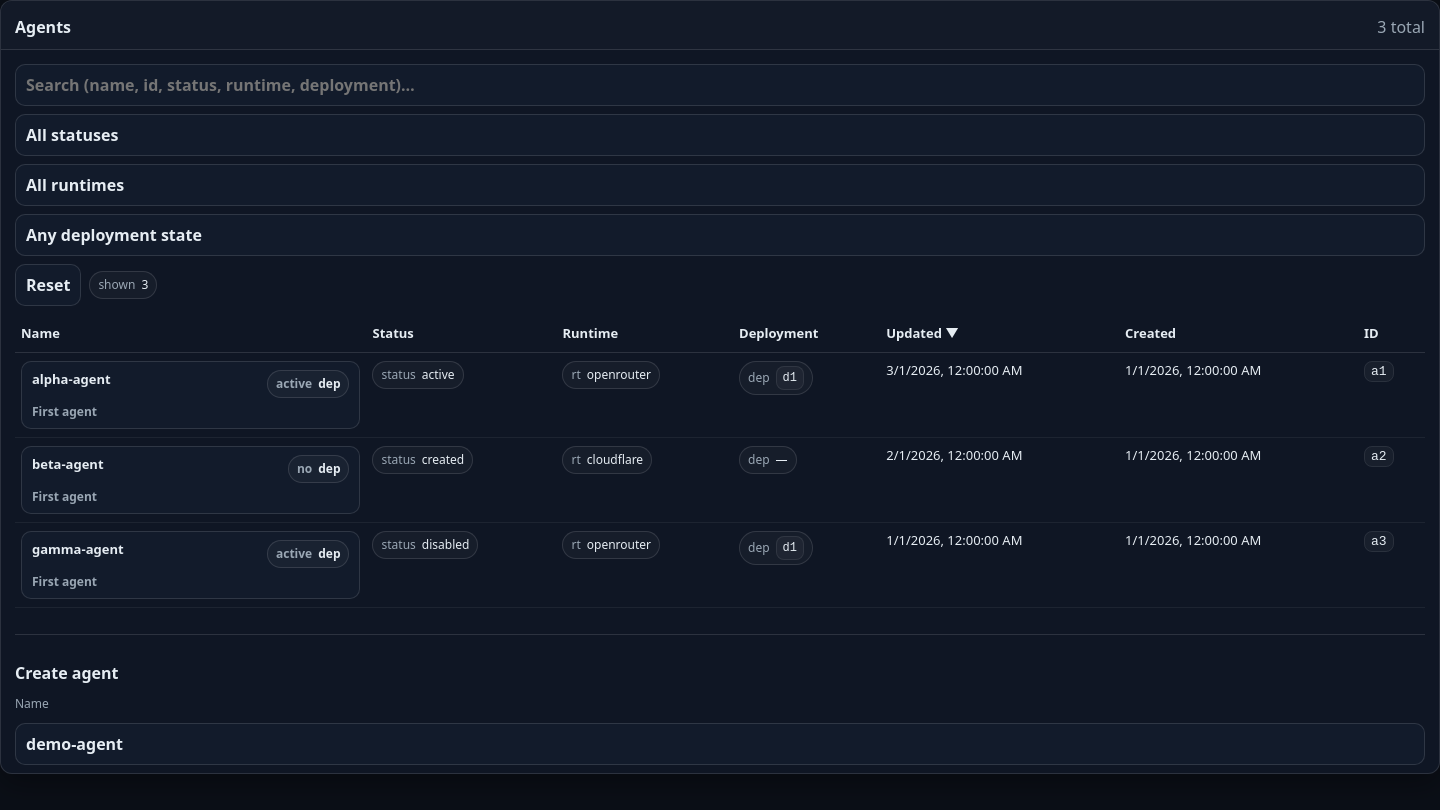
it: AgentsListPanel › filters by status
Select "disabled" in the dropdown named "Filter by status" at (720, 135), box top-left (15, 114), bottom-right (1425, 156)
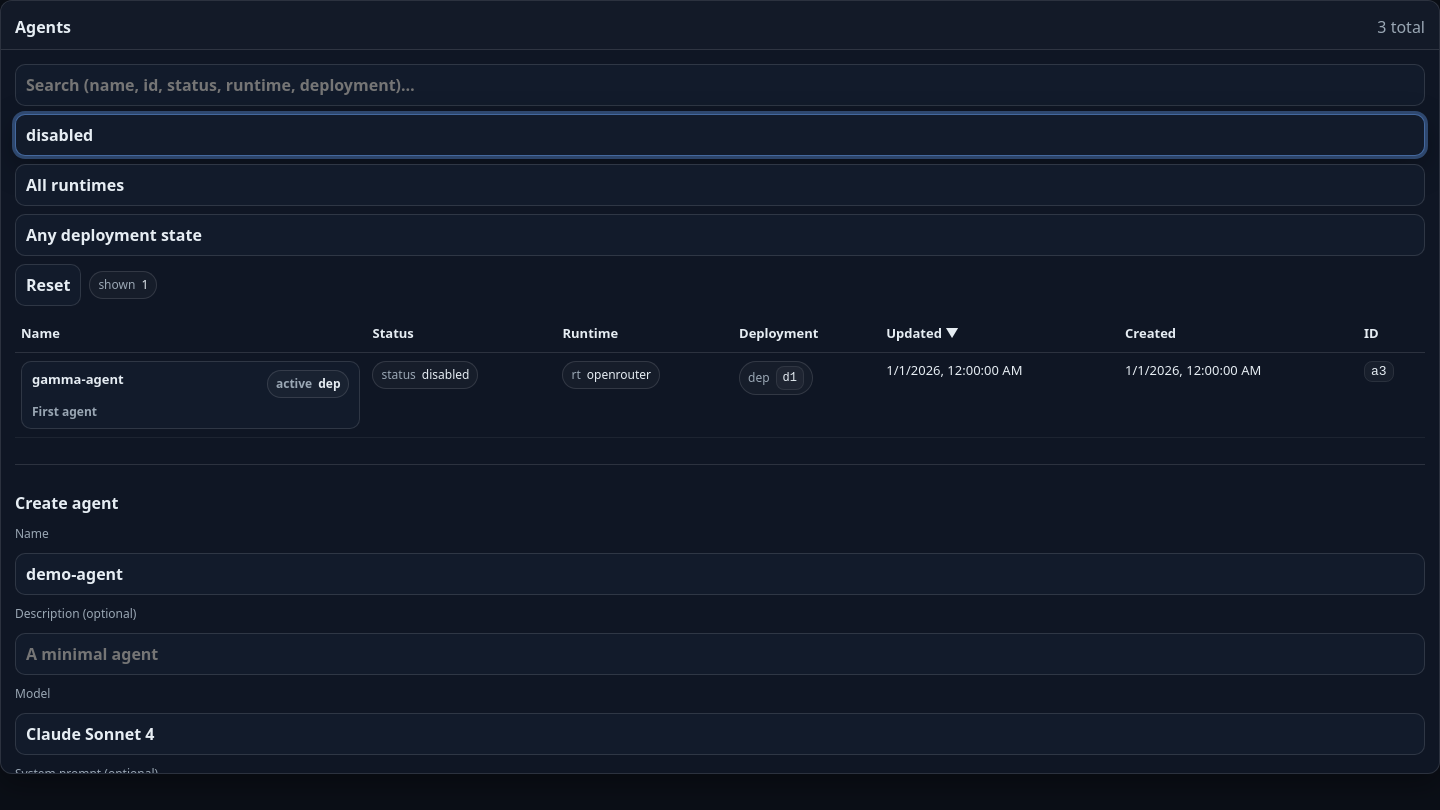
Expected: the text "gamma-agent" is shown, top-left (32, 370), bottom-right (124, 398)
Result: the button "alpha-agent" is gone
